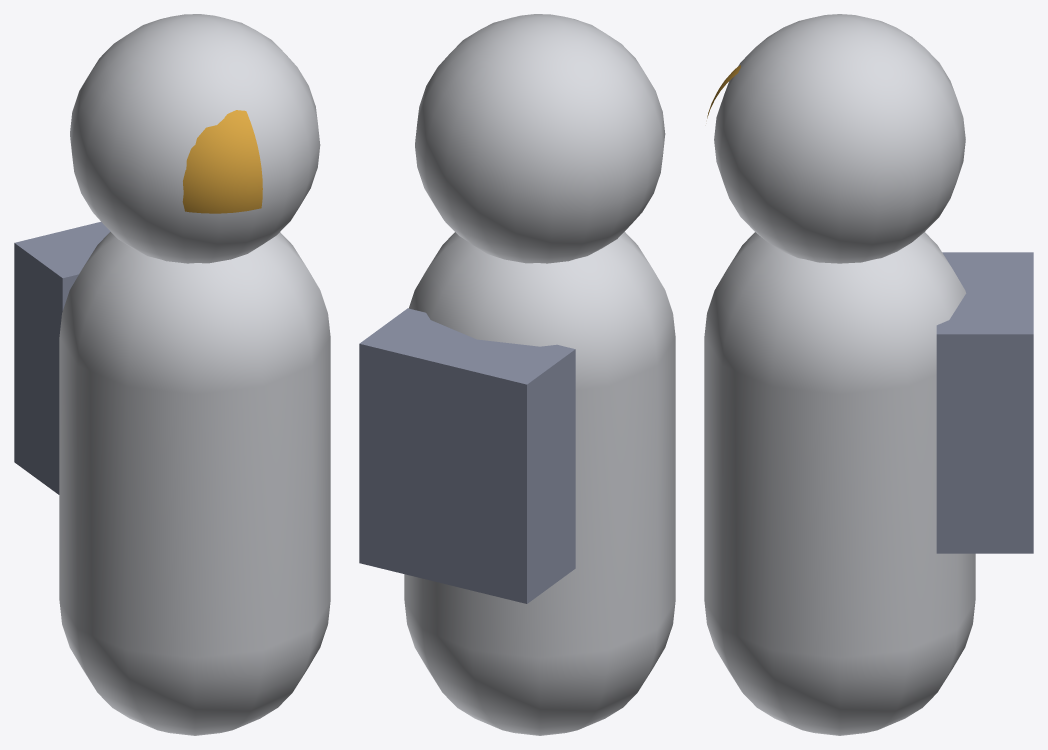
Rendered from astronauta.glb.
The picture shows the model from 3 angles, left to right: view 1: azimuth 30°, elevation 25°; view 2: azimuth 150°, elevation 25°; view 3: azimuth 270°, elevation 25°; orthographic projection.
Parts seen in each view (by area): view 1: astronauta; view 2: astronauta; view 3: astronauta.
Part boxes in pixels (box(x1,y1,x2,y2)): astronauta: box(14, 14, 330, 735); astronauta: box(359, 14, 675, 735); astronauta: box(704, 14, 1033, 735).
Bounding box in the file's own units: 0.56 × 1.59 × 0.68.
